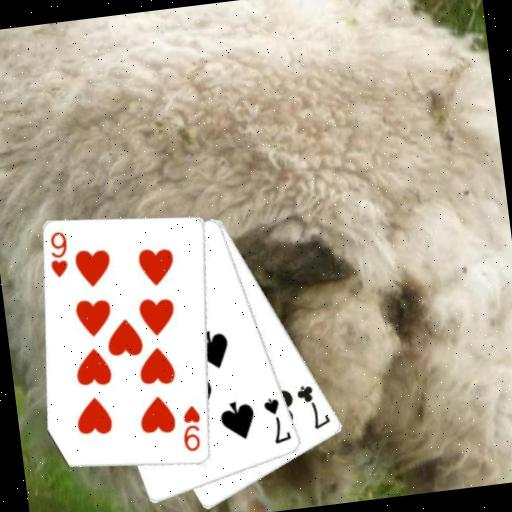7C: (292, 379, 333, 433)
7S: (260, 393, 294, 447)
9H: (177, 402, 206, 455), (44, 228, 73, 281)
